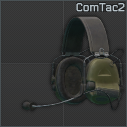Peltor ComTac 2 headset: (0, 0, 127, 127)
